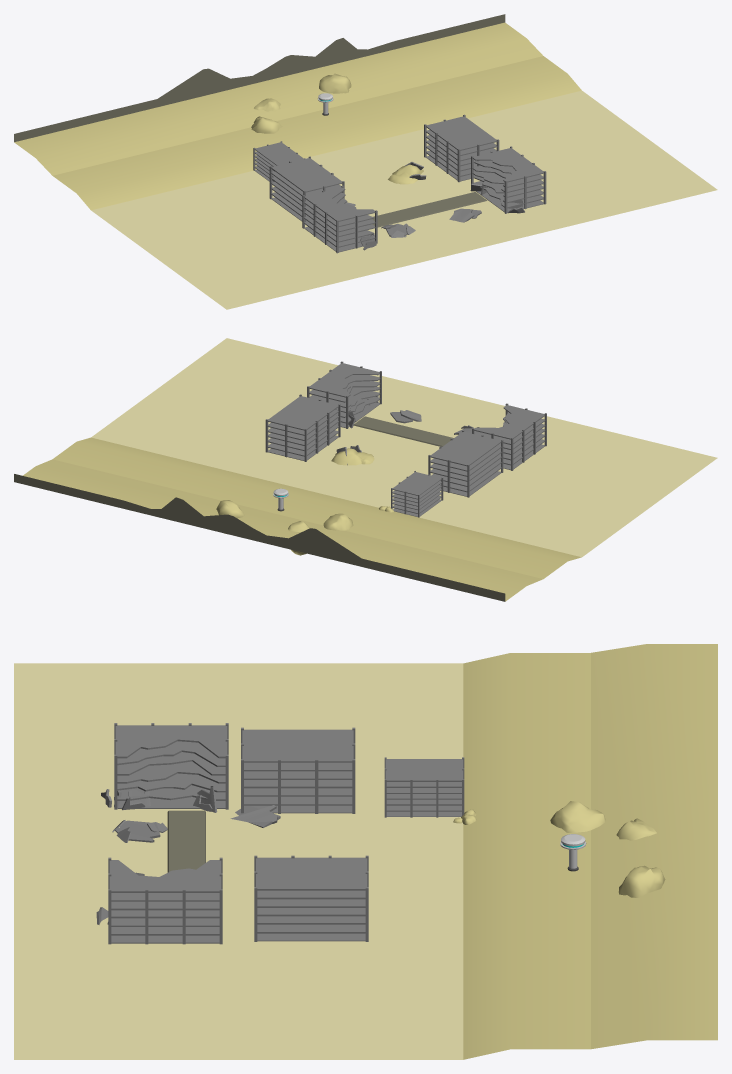
Rendered from Level.fbx.
3 views of the same model, one above another, from view 1: azimuth 30°, elevation 25°; view 2: azimuth 150°, elevation 25°; view 3: azimuth 270°, elevation 25° (orthographic). The views are drawn at different scales.
Parts seen in each view (by area): view 1: pCube53; view 2: pCube53; view 3: pCube53.
Part boxes in pixels (<box>): pCube53: <box>14,14,717,309</box>; pCube53: <box>14,338,717,601</box>; pCube53: <box>14,644,717,1059</box>.
Size of the model in its own units: 5050 by 642 by 3790.
